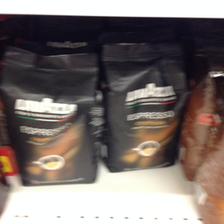coffee: (1, 44, 100, 186), (98, 32, 187, 173)
